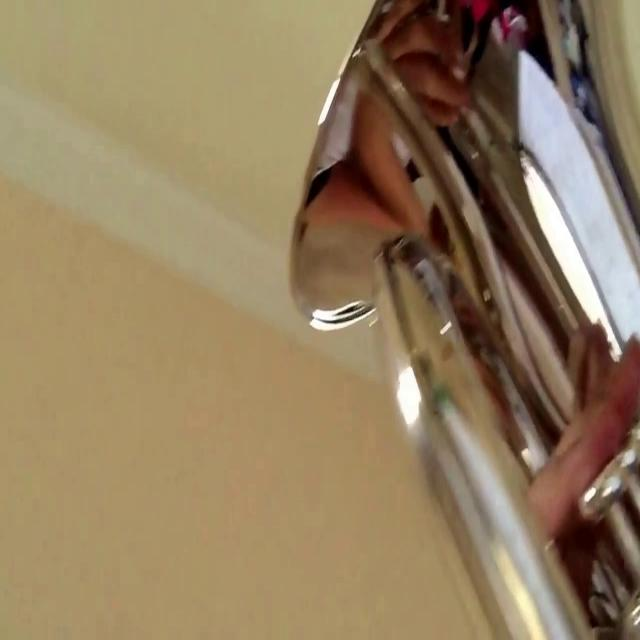Tuba: (276, 0, 640, 635)
